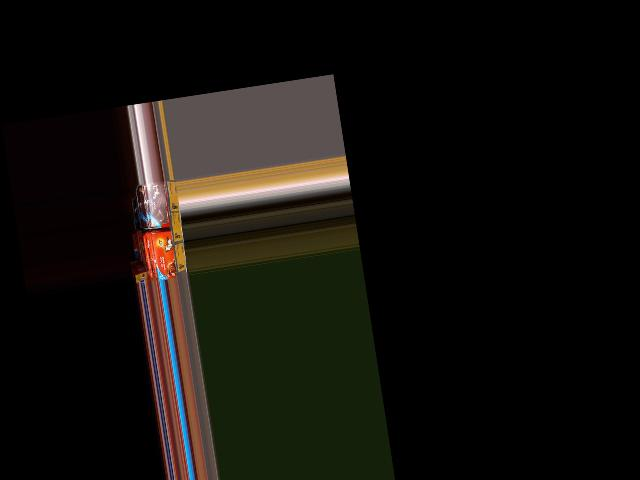chocolate: (142, 179, 175, 225)
